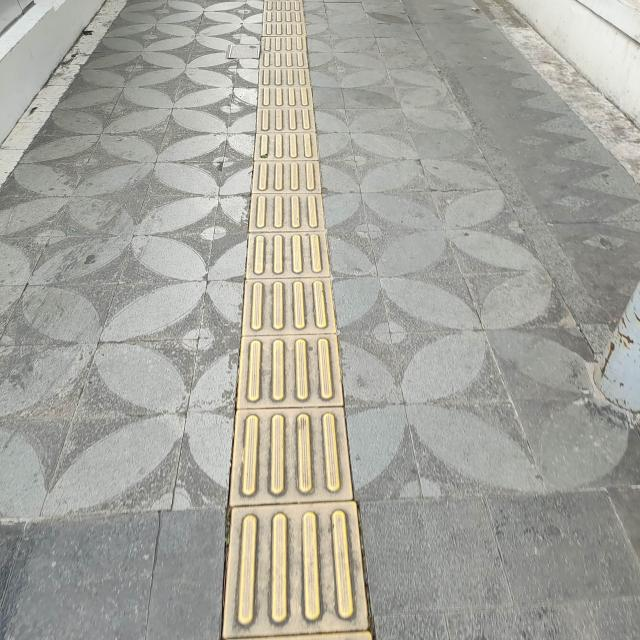lurus: (238, 0, 353, 640)
